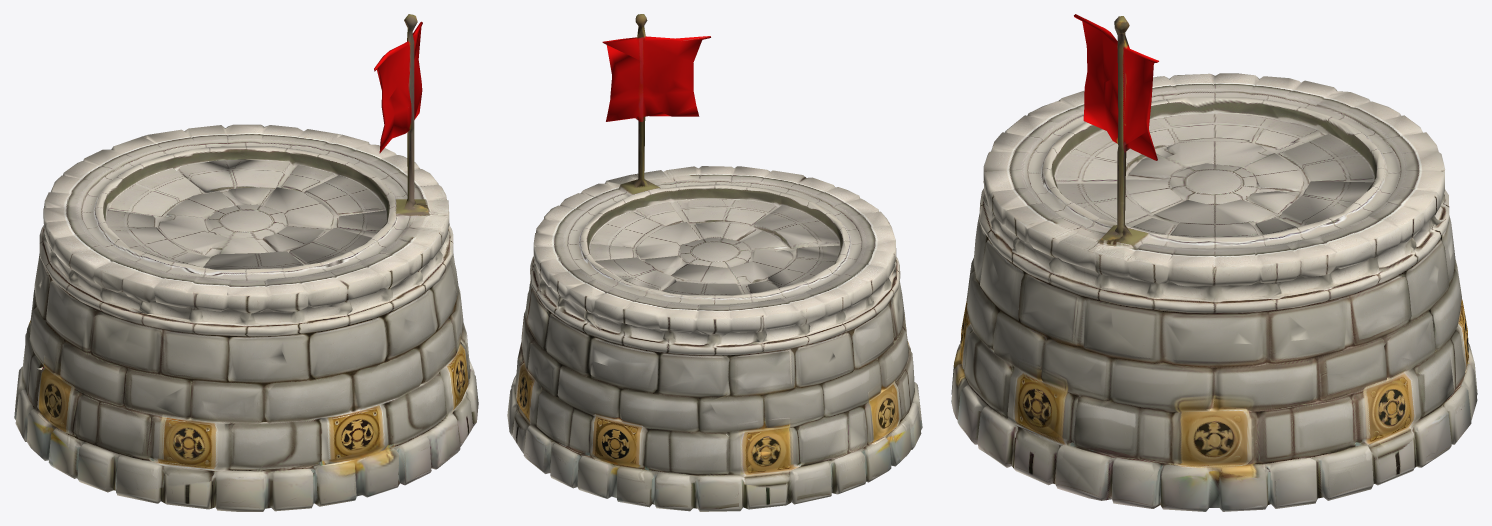
The model's file is tier2_base.glb.
3 renders of one model, left to right at view 1: azimuth 30°, elevation 25°; view 2: azimuth 150°, elevation 25°; view 3: azimuth 270°, elevation 25°, orthographic. The views are drawn at different scales.
Size of the model in its own units: 1.91 by 1.82 by 1.91.
Materials: 1 (1 with a texture image).
